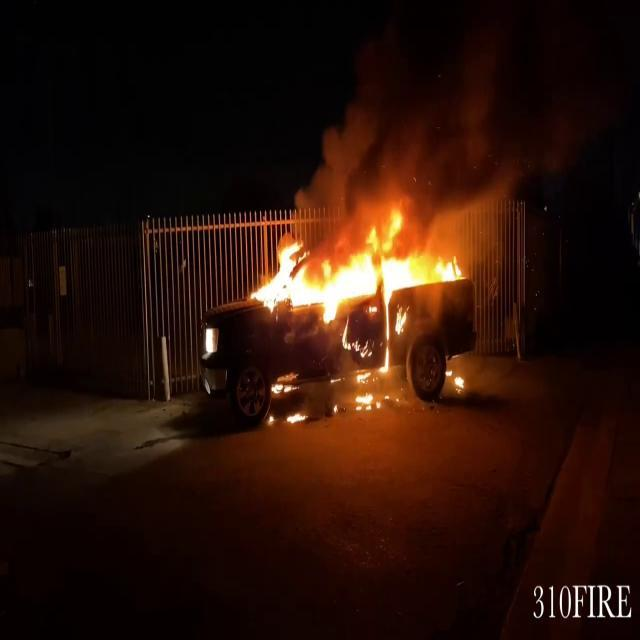Fire: (254, 206, 466, 324)
Smoke: (314, 2, 568, 235)
